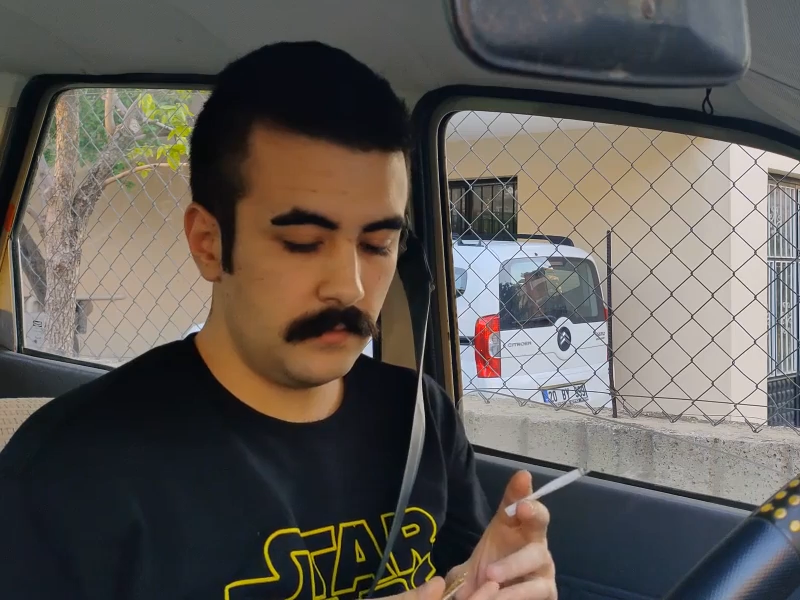sigara: (500, 459, 597, 523)
